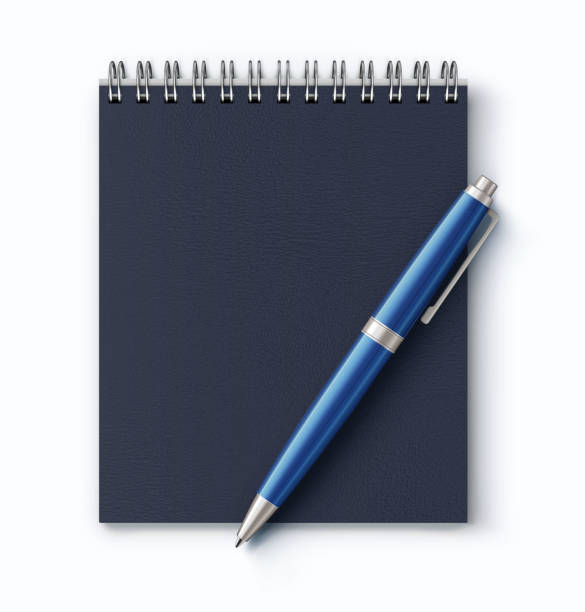pen: (230, 168, 515, 560)
